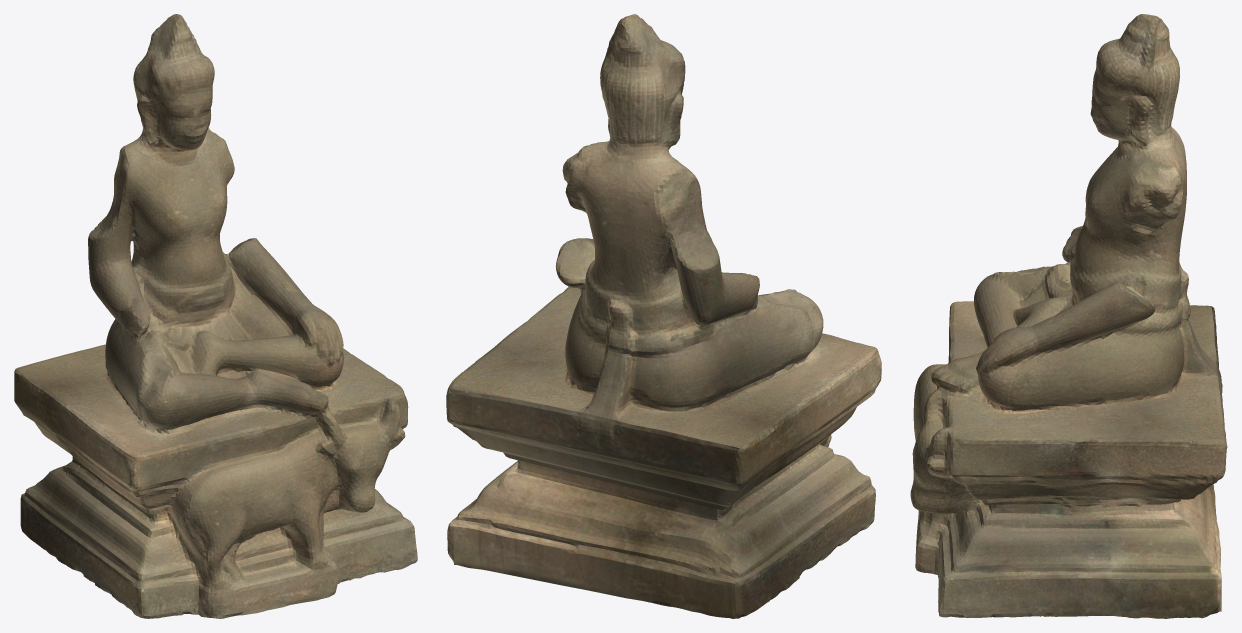
Rendered from 20_thanphuonghuong_final.glb.
The picture shows the model from 3 angles, left to right: view 1: azimuth 30°, elevation 25°; view 2: azimuth 150°, elevation 25°; view 3: azimuth 270°, elevation 25°; orthographic projection. The views are drawn at different scales.
Size of the model in its own units: 0.3945 by 0.6861 by 0.3685.
Materials: 1 (1 with a texture image).
